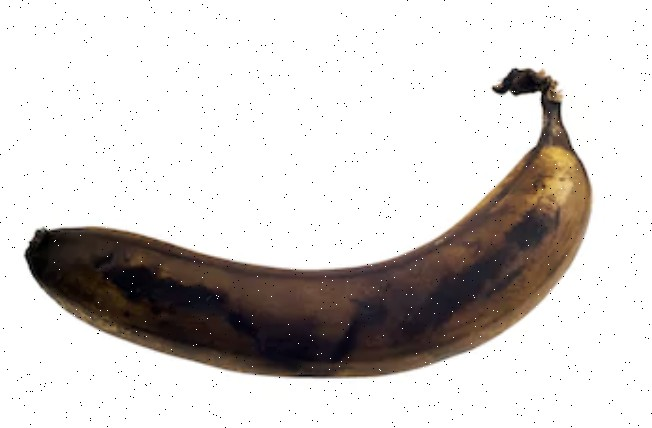rotten_banana: (25, 68, 593, 379)
